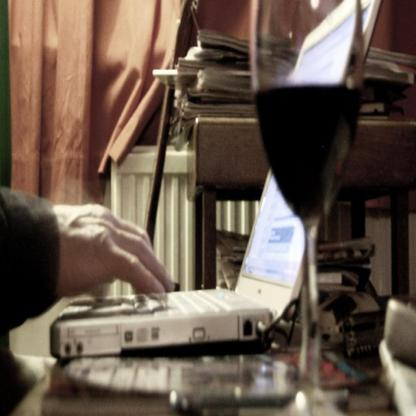board: (50, 0, 362, 356)
